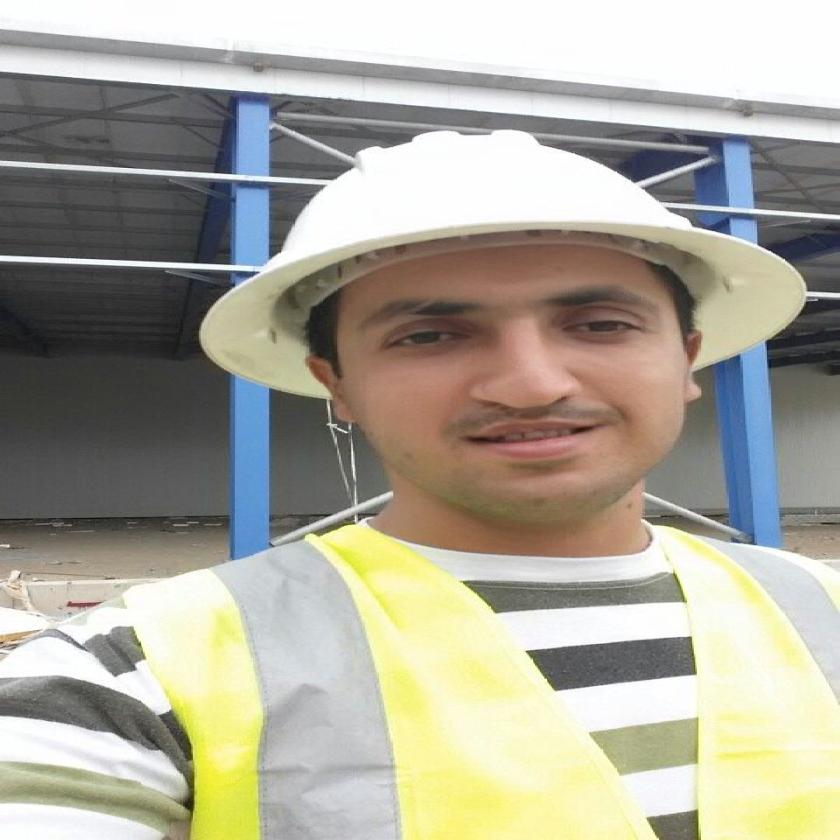Con_casco: (193, 126, 818, 529)
